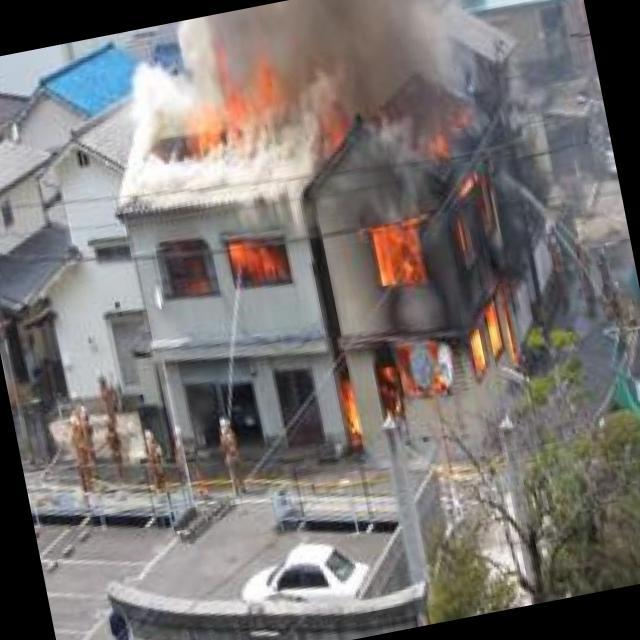Fire: (289, 122, 535, 449), (165, 56, 316, 170), (183, 228, 300, 304)
